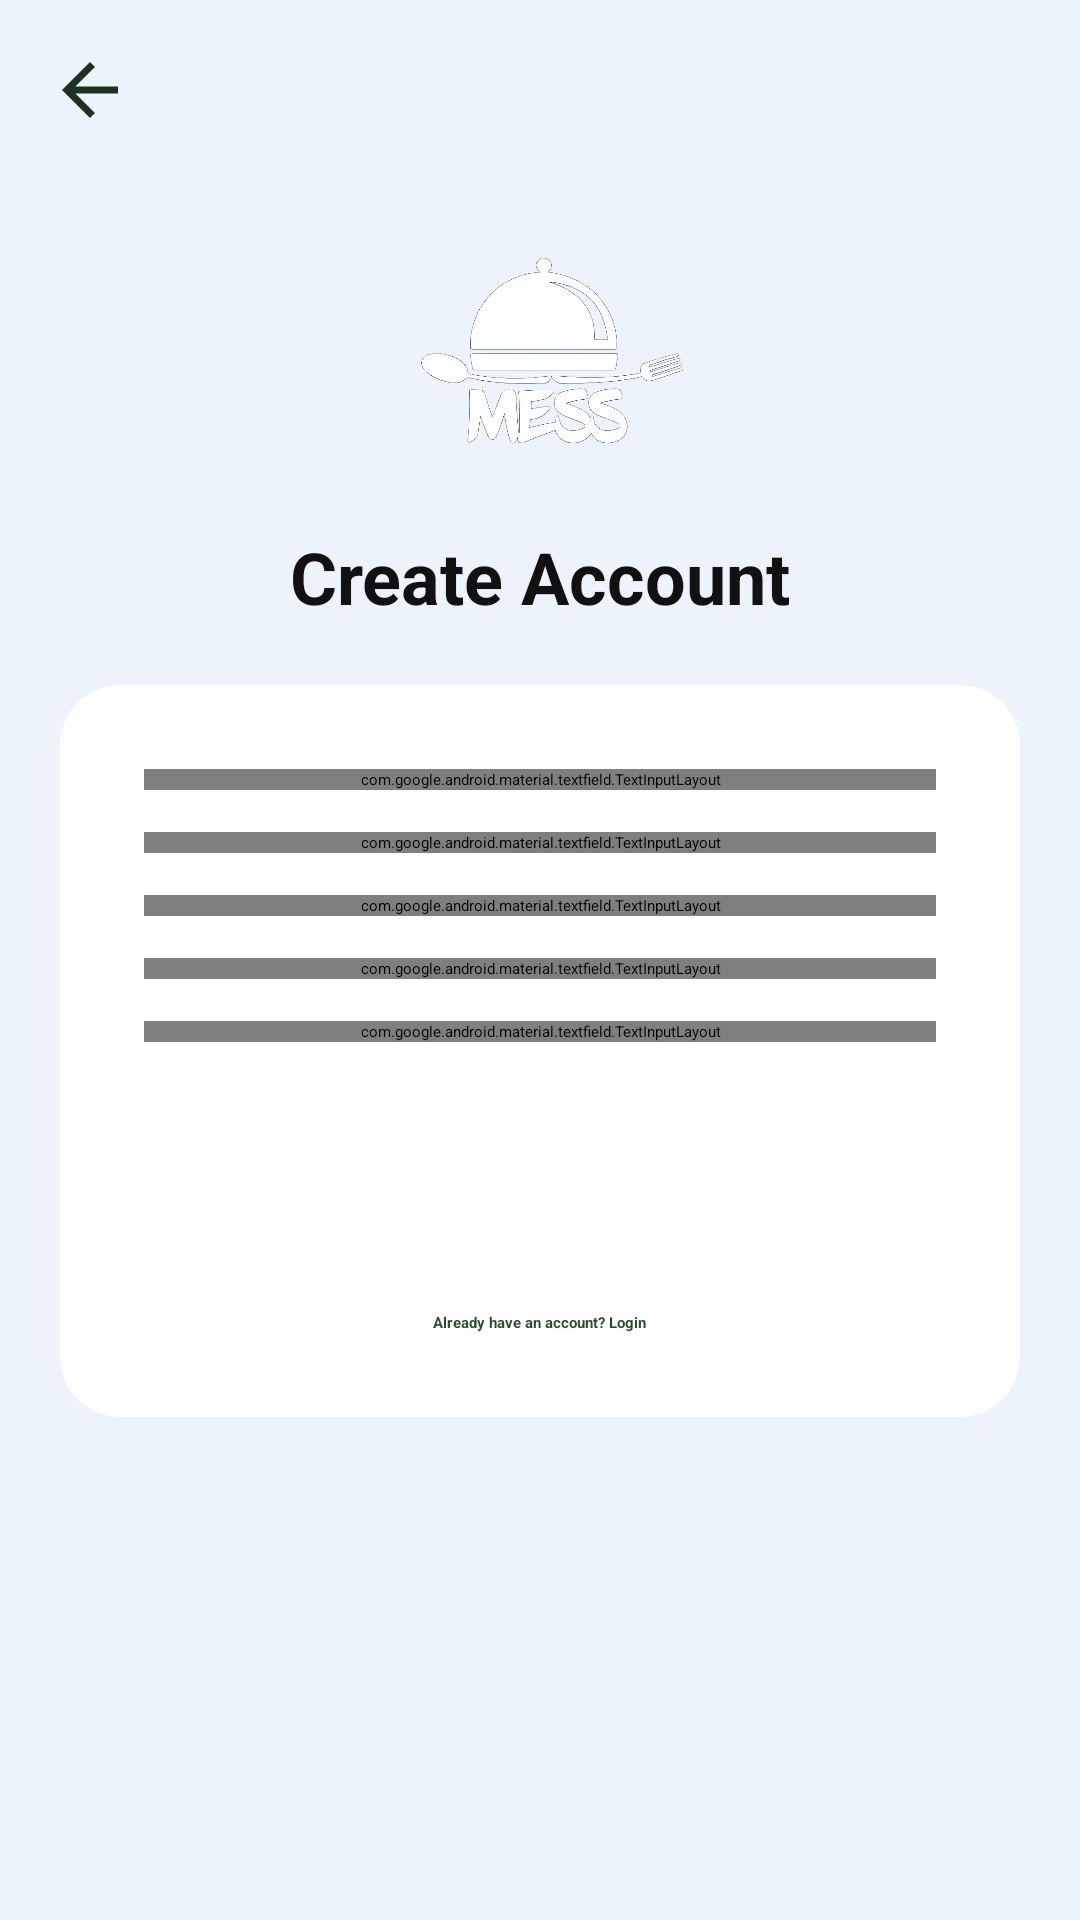

Icon click points for this 1080px×1920px phone screenshot, format (x,y):
back: (90,90)
